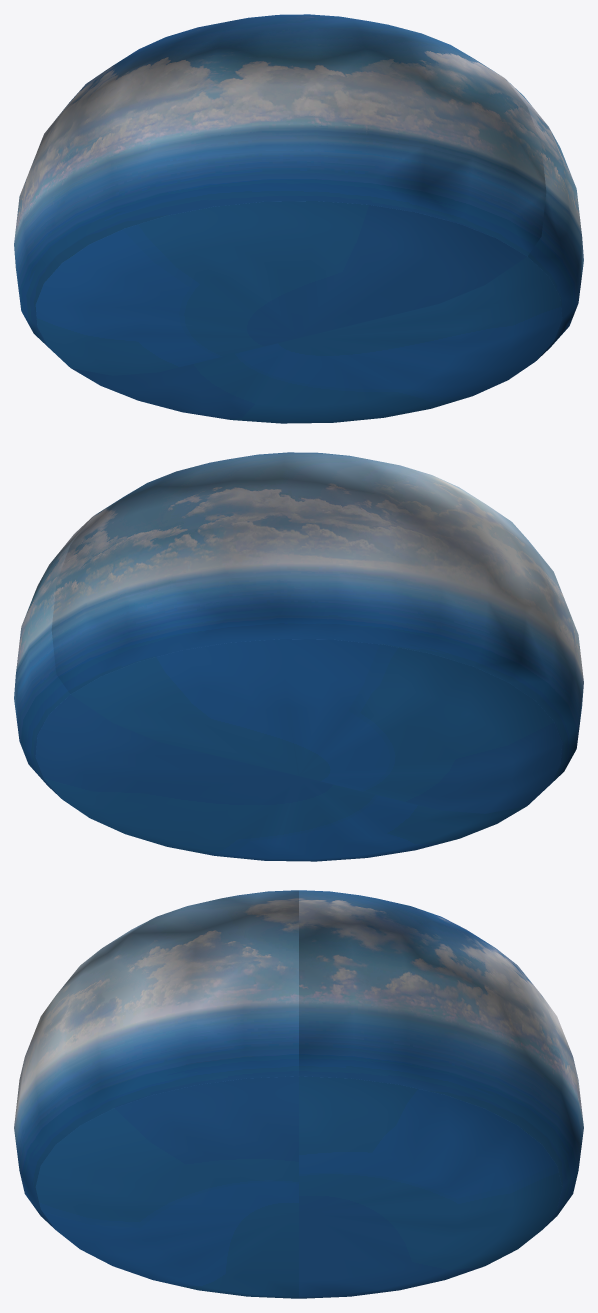
Rendered from Sky_Syk0001.glb.
3 views of the same model, one above another, from view 1: azimuth 30°, elevation 25°; view 2: azimuth 150°, elevation 25°; view 3: azimuth 270°, elevation 25° (orthographic).
Parts seen in each view (by area): view 1: syk_0001; view 2: syk_0001; view 3: syk_0001.
Part boxes in pixels (x1,y1,x2,y2): syk_0001: (14, 14, 583, 423); syk_0001: (14, 452, 583, 861); syk_0001: (14, 890, 583, 1298).
Size of the model in its own units: 668 by 362 by 668.
1 material, 1 textured.
